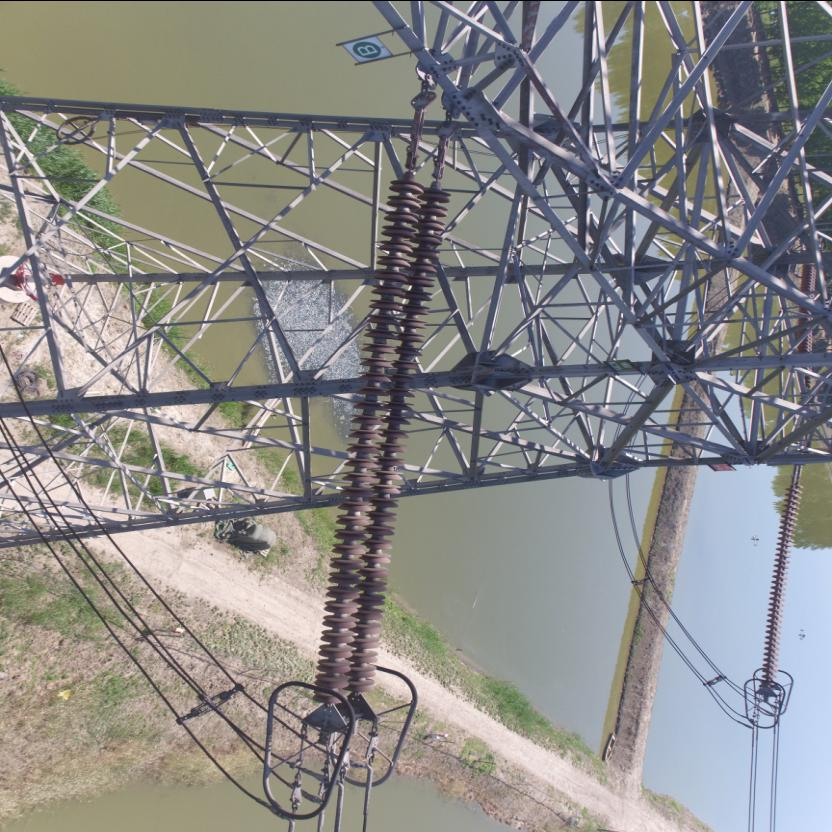insulator: (309, 136, 454, 714), (760, 473, 812, 688)
